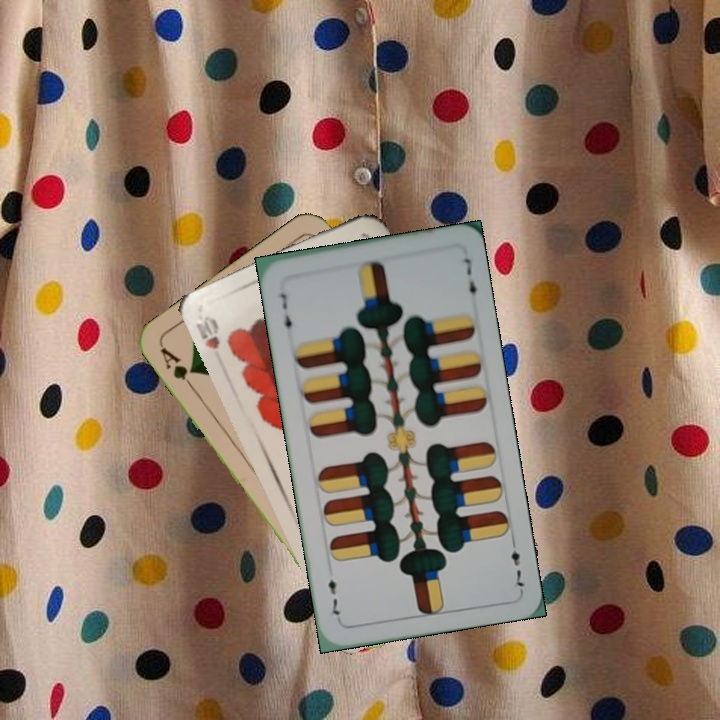E7: (507, 534, 526, 591), (275, 288, 295, 338)
GA: (156, 343, 198, 393)
H10: (191, 312, 223, 352)
